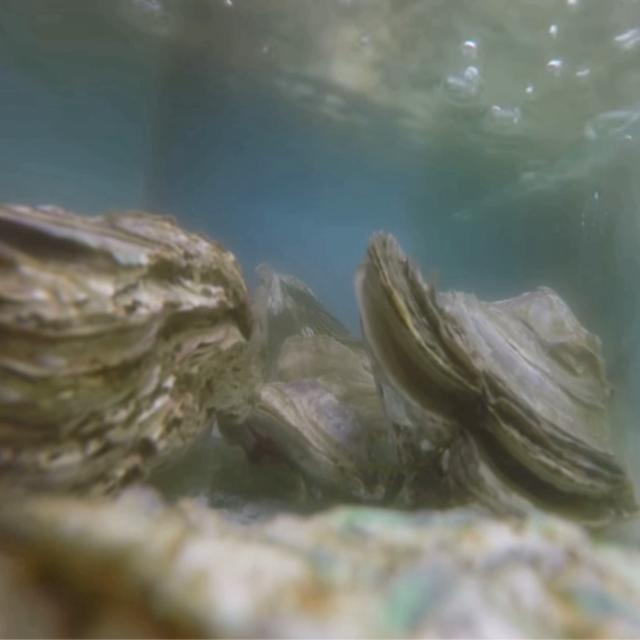Oyster-Closed: (0, 202, 255, 540), (253, 331, 416, 510)
Oyster-Indeterminate: (0, 484, 640, 640)
Oyster-Open: (353, 230, 640, 542)
